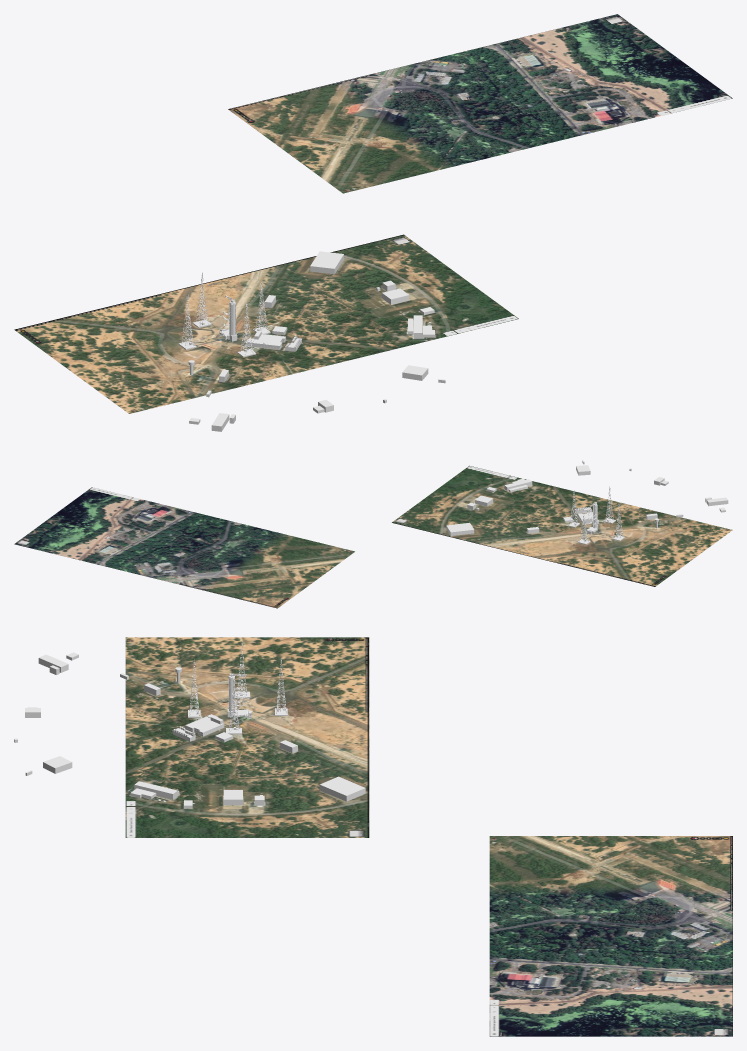
Rendered from pad.glb.
3 views of the same model, one above another, from view 1: azimuth 30°, elevation 25°; view 2: azimuth 150°, elevation 25°; view 3: azimuth 270°, elevation 25° (orthographic). The views are drawn at different scales.
Visible parts, largest first — view 1: Plane007_Material #35_0, Plane003_Material #22_0, Box006_Material #68_0; view 2: Plane007_Material #35_0, Plane003_Material #22_0, Box006_Material #68_0; view 3: Plane007_Material #35_0, Plane003_Material #22_0, Box006_Material #68_0.
Boxes of the visible parts, x1,y1,x2,y2 form: Plane007_Material #35_0: [228, 14, 732, 193]; Plane003_Material #22_0: [14, 234, 518, 413]; Box006_Material #68_0: [178, 251, 445, 431]; Plane007_Material #35_0: [14, 487, 354, 608]; Plane003_Material #22_0: [392, 465, 732, 586]; Box006_Material #68_0: [446, 460, 728, 544]; Plane007_Material #35_0: [489, 836, 732, 1036]; Plane003_Material #22_0: [125, 637, 369, 837]; Box006_Material #68_0: [14, 641, 365, 808].
Size of what is drawn, in the model's own units: 1482 by 94.55 by 1127.
3 materials, 2 textured.
